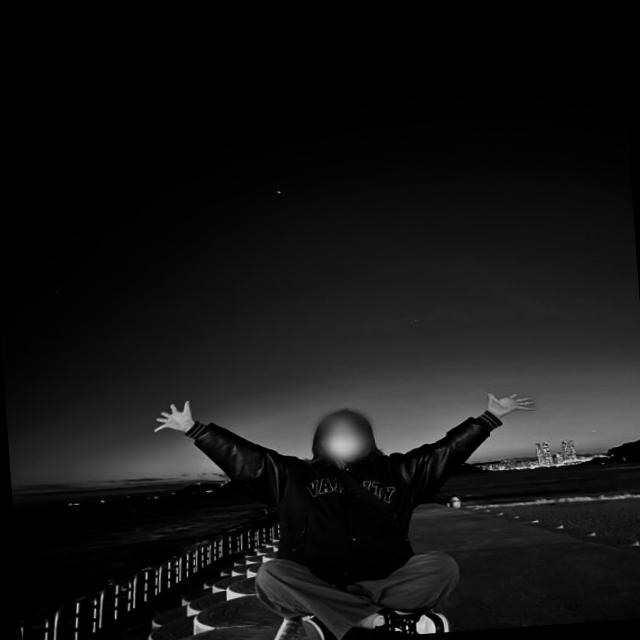cottonpants: (253, 543, 467, 640)
jacket: (194, 401, 512, 588)
